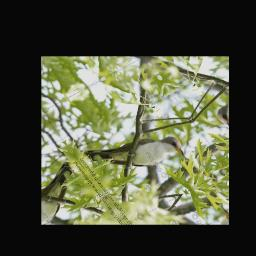Cuckoo: (81, 111, 190, 195)
